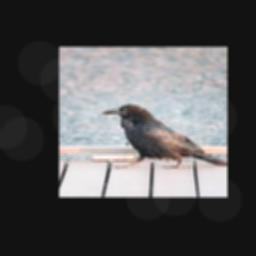Crow: (101, 103, 227, 169)
